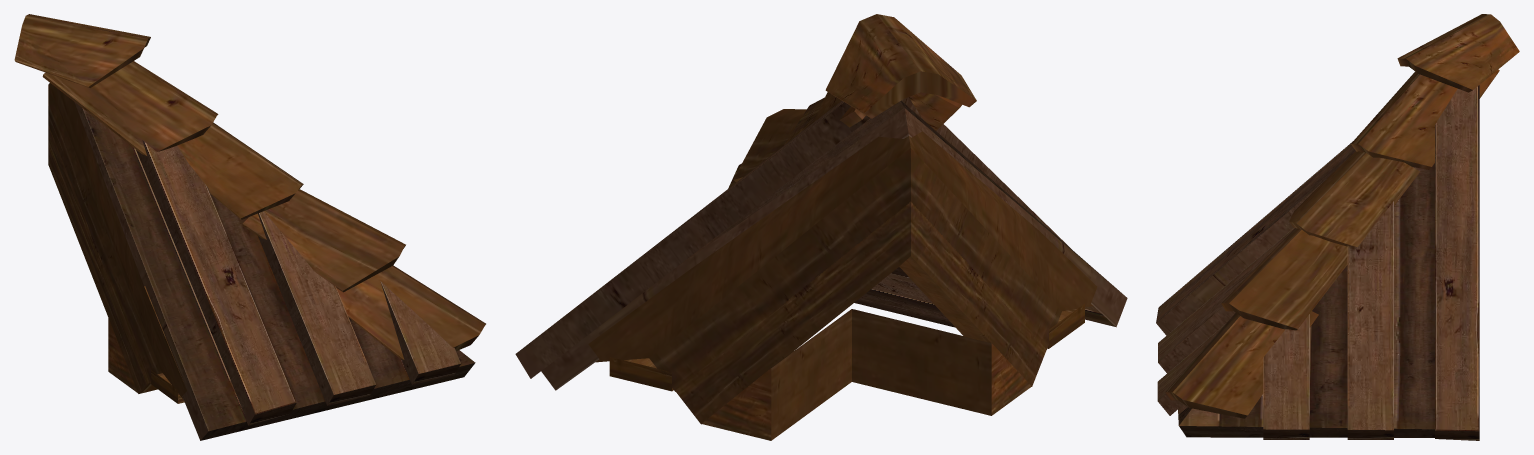
3 renders of one model, left to right at view 1: azimuth 30°, elevation 25°; view 2: azimuth 150°, elevation 25°; view 3: azimuth 270°, elevation 25°, orthographic. The views are drawn at different scales.
Visible parts, largest first — view 1: SM_BB_T2_Roof_Small_Hip_LOD0; view 2: SM_BB_T2_Roof_Small_Hip_LOD0; view 3: SM_BB_T2_Roof_Small_Hip_LOD0.
Boxes of the visible parts, x1=… form: SM_BB_T2_Roof_Small_Hip_LOD0: x1=14, y1=14, x2=485, y2=440; SM_BB_T2_Roof_Small_Hip_LOD0: x1=515, y1=14, x2=1127, y2=440; SM_BB_T2_Roof_Small_Hip_LOD0: x1=1156, y1=14, x2=1519, y2=440.
Size of the model in its own units: 1.61 by 1.43 by 1.6.
Materials: 2 (2 with a texture image).
